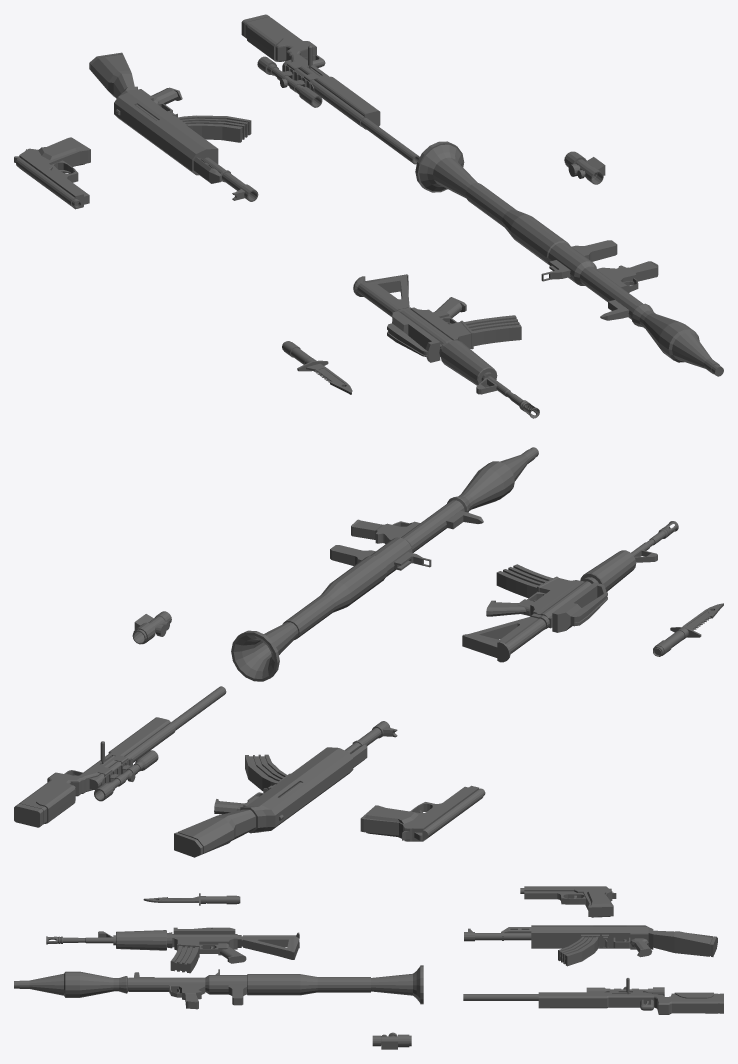
The model's file is GunsPack.fbx.
3 views of the same model, one above another, from view 1: azimuth 30°, elevation 25°; view 2: azimuth 150°, elevation 25°; view 3: azimuth 270°, elevation 25° (orthographic). The views are drawn at different scales.
Visible parts, largest first — view 1: RPG, M4, AK, Cube, Pistol, RPGAmmo, AkMagazine, M4Magazine, Knife, 4X Scope; view 2: RPG, M4, AK, Cube, Pistol, RPGAmmo, M4Magazine, Knife, AkMagazine, 4X Scope; view 3: RPG, AK, M4, Cube, RPGAmmo, Pistol, AkMagazine, Knife, M4Magazine, 4X Scope.
Part boxes in pixels (x1,y1,x2,y2): RPG: [415, 141, 658, 320]; M4: [353, 274, 539, 418]; AK: [89, 52, 258, 201]; Cube: [241, 14, 419, 164]; Pistol: [14, 137, 90, 209]; RPGAmmo: [631, 303, 723, 376]; AkMagazine: [177, 115, 251, 142]; M4Magazine: [464, 315, 521, 346]; Knife: [282, 341, 352, 394]; 4X Scope: [564, 151, 605, 184]; RPG: [231, 500, 483, 681]; M4: [462, 521, 678, 662]; AK: [174, 721, 397, 857]; Cube: [14, 686, 226, 827]; Pistol: [360, 785, 485, 841]; RPGAmmo: [447, 447, 538, 512]; M4Magazine: [496, 564, 552, 598]; Knife: [653, 603, 723, 656]; AkMagazine: [245, 754, 286, 790]; 4X Scope: [132, 611, 171, 644]; RPG: [128, 965, 423, 1009]; AK: [464, 925, 717, 957]; M4: [46, 927, 299, 963]; Cube: [463, 978, 723, 1014]; RPGAmmo: [14, 971, 128, 997]; Pistol: [520, 886, 616, 917]; AkMagazine: [558, 936, 598, 966]; Knife: [143, 893, 240, 905]; M4Magazine: [170, 946, 198, 973]; 4X Scope: [372, 1032, 411, 1049].
Bounding box in the file's own units: 6.53 × 0.7942 × 12.62.
